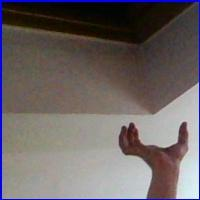space: (111, 116, 194, 162)
